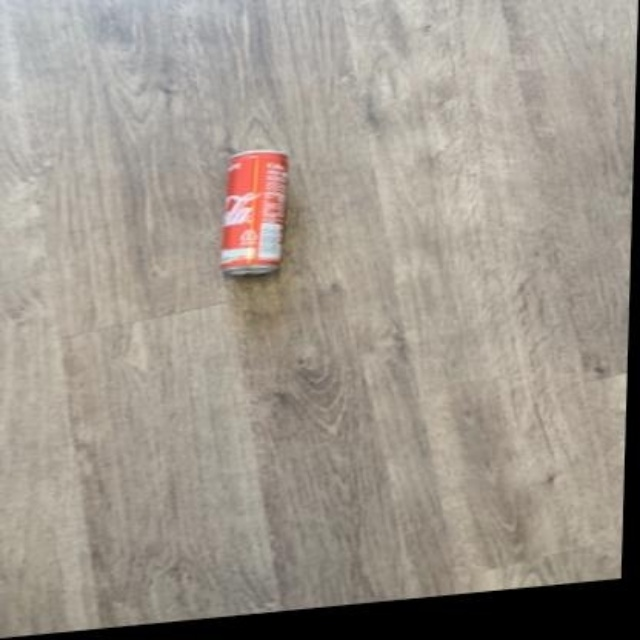trash: (222, 151, 286, 274)
